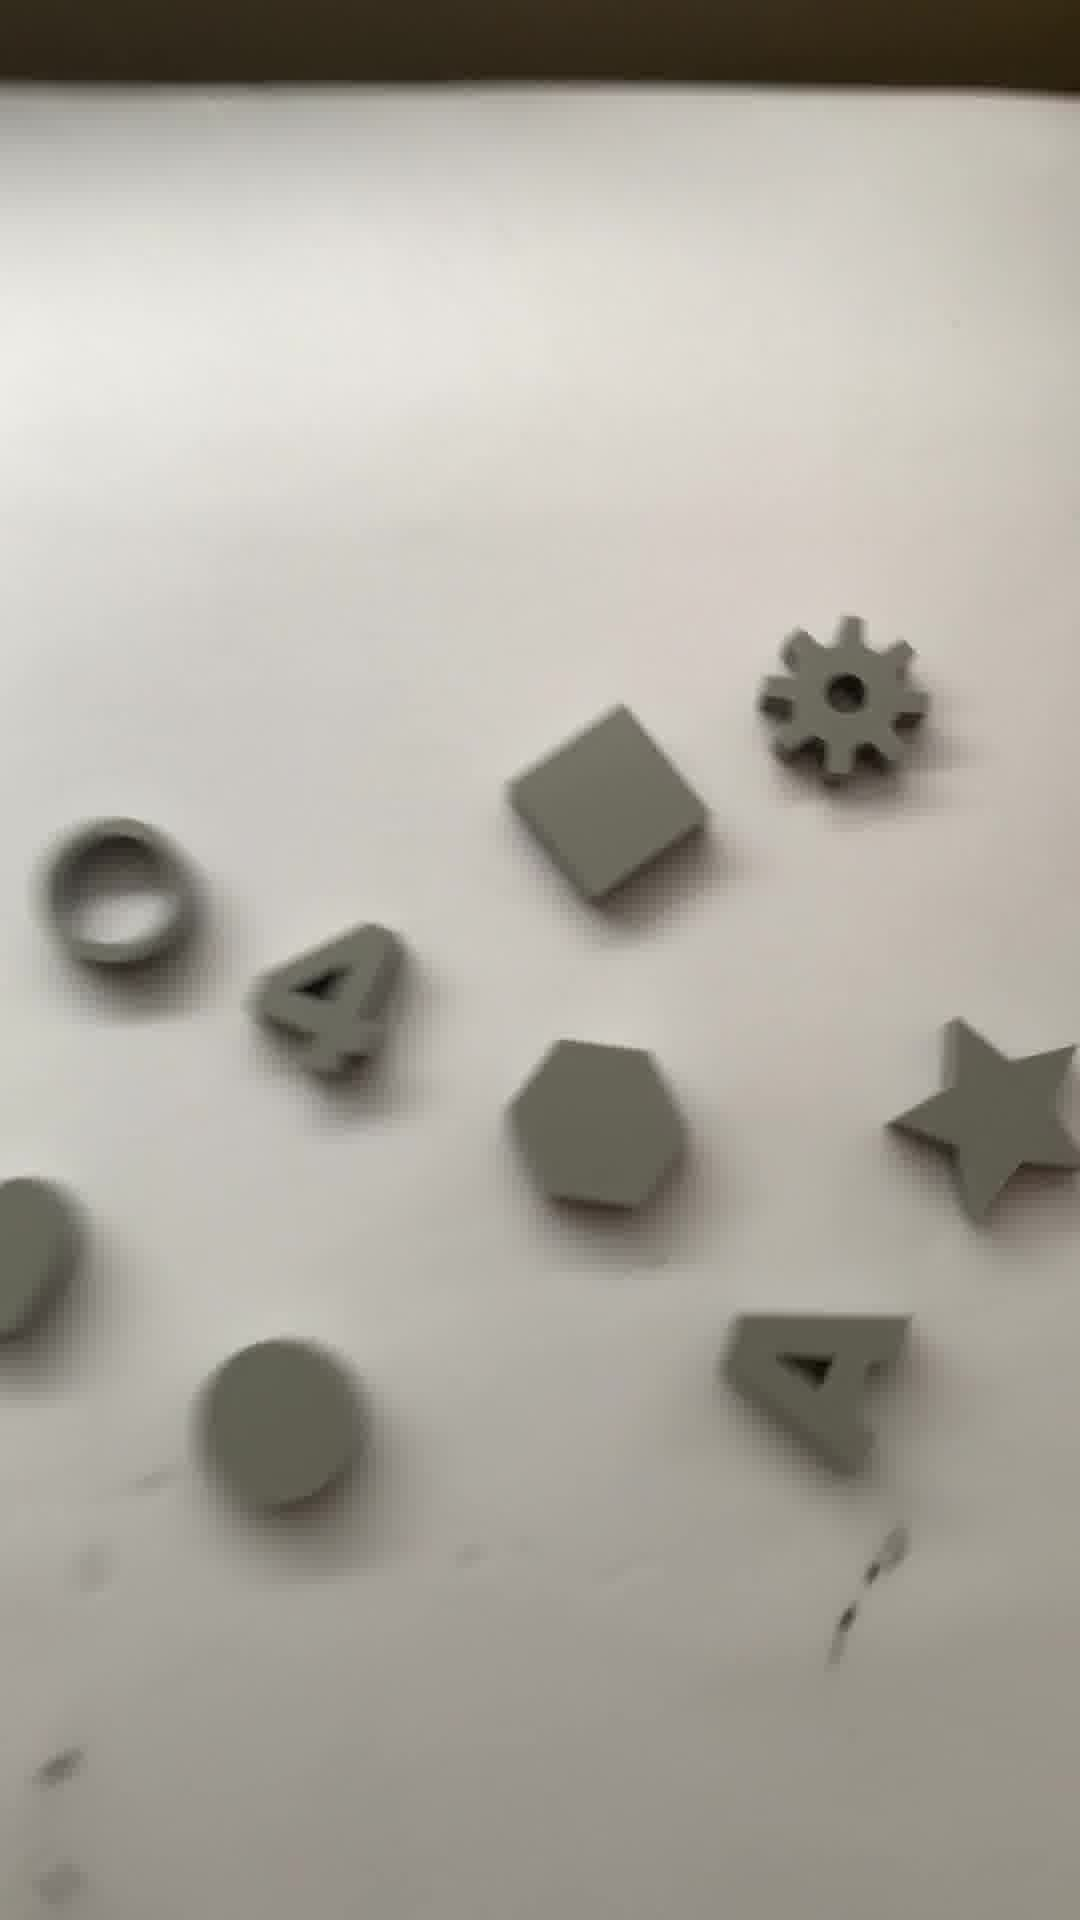Gray A-letter: (715, 1308, 916, 1472)
Gray circle: (204, 1331, 355, 1526)
Gray four: (256, 932, 421, 1106)
Gray gear: (752, 620, 938, 785)
Gray hexagon: (509, 1023, 680, 1218)
Gray ring: (45, 806, 189, 985)
Gray square: (504, 699, 725, 909)
Gray star: (884, 1011, 1080, 1236)
